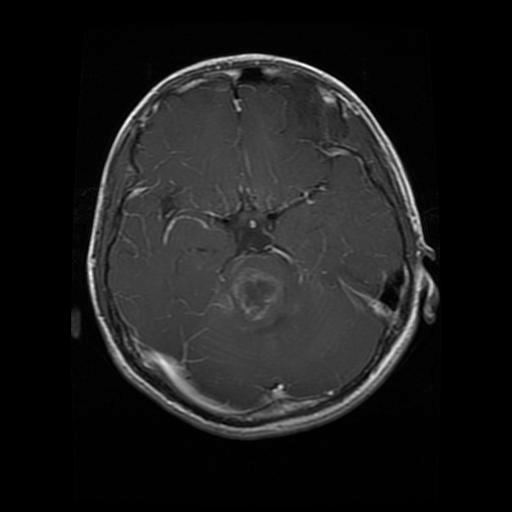Tumour-Glioma: (222, 250, 300, 330)
